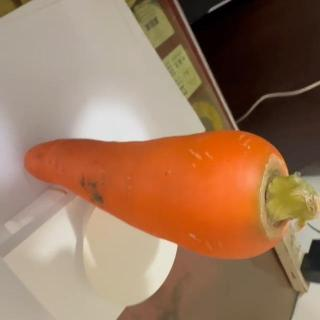carrot: (24, 127, 320, 260)
